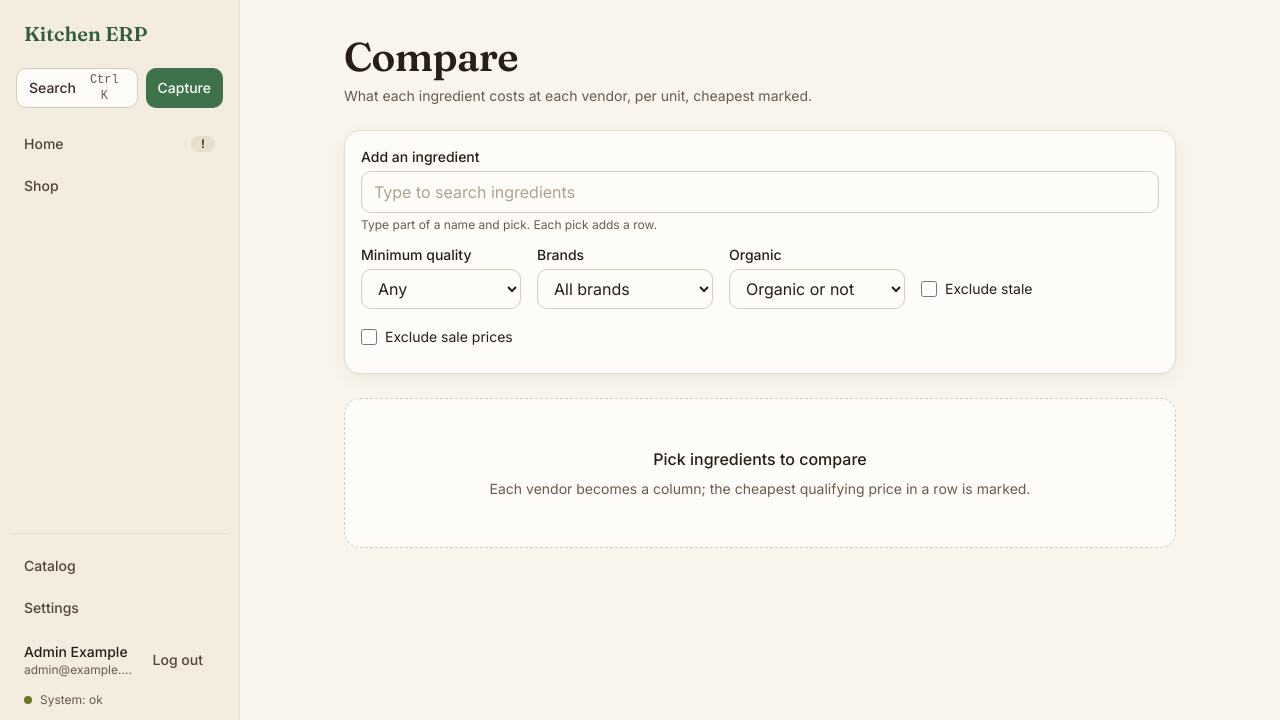
Test: comparison matrix › marks the cheapest cell and leaves an unknown cell blank rather than zero
This screenshot has width=1280, height=720.
Expected: the text "Pick ingredients to compare" is shown, [653,449,867,469]
Type "flour" into the dropdown labelled "Add an ingredient" at (760, 192), box [361,171,1159,213]
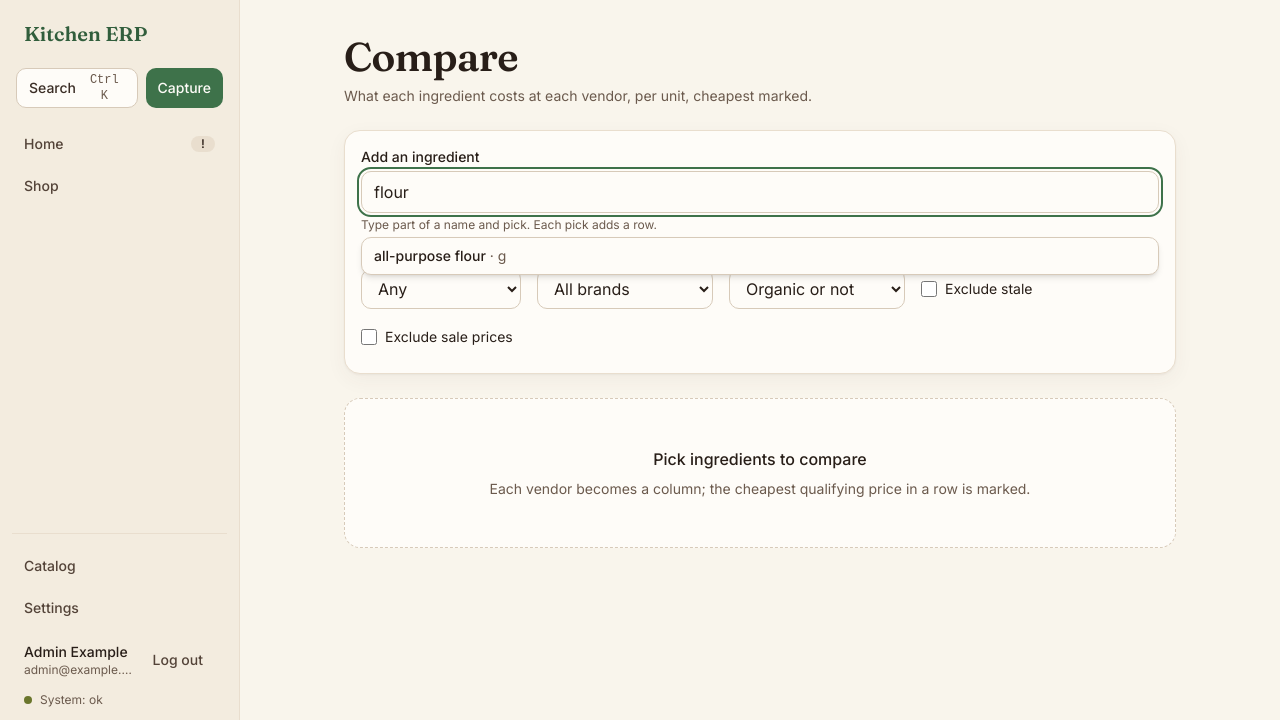
Click the option "all-purpose flour · g" at (440, 256), box [374,247,506,264]
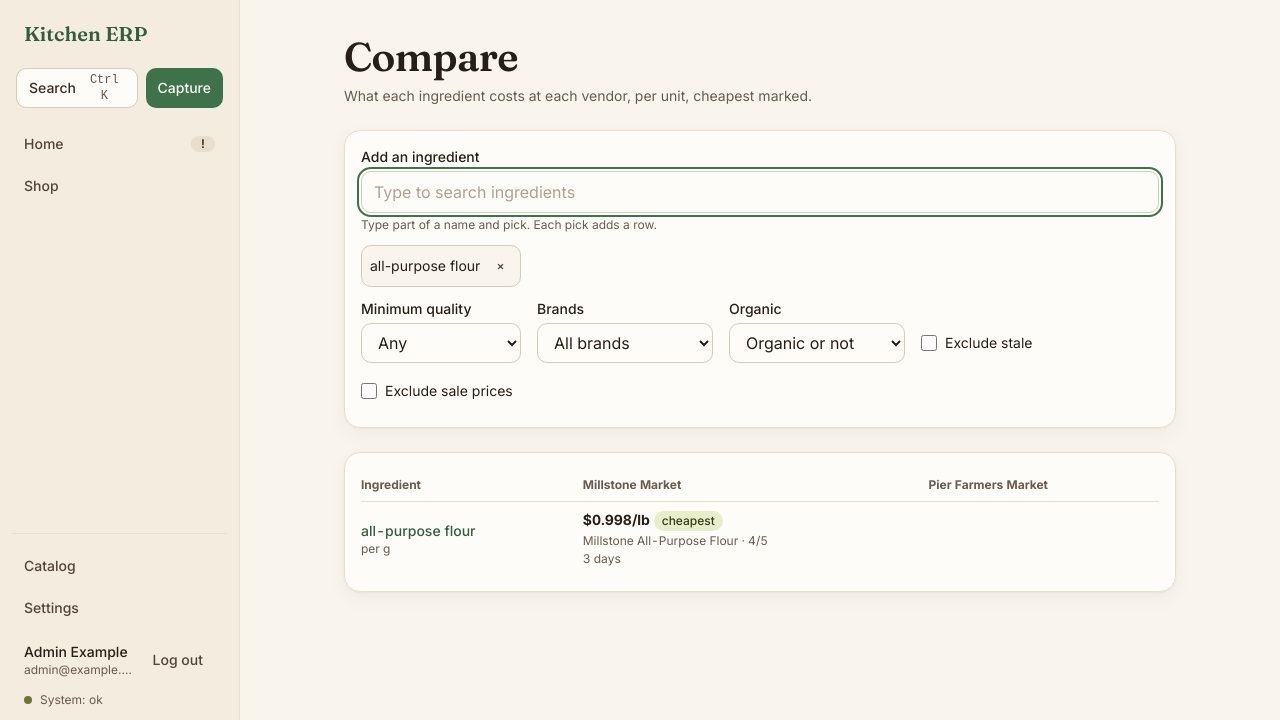
Now the column heading "Millstone Market" is shown, box [583,469,929,502]
Now the column heading "Pier Farmers Market" is shown, box [928,469,1159,502]
